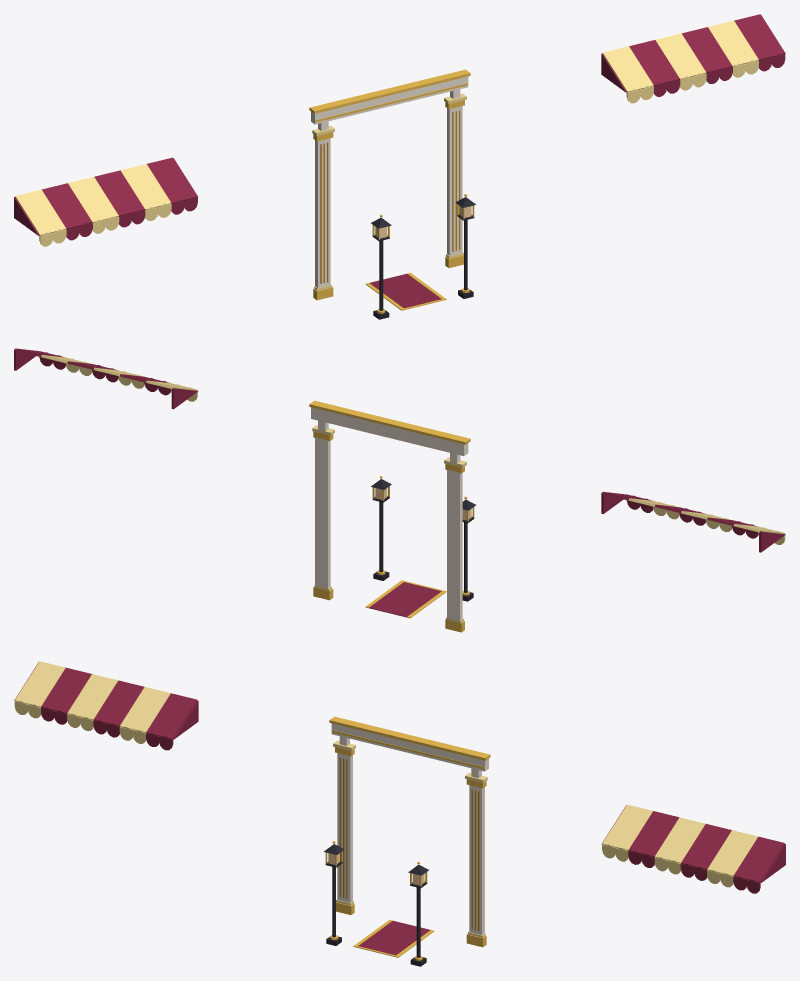
The model's file is CatCafe_Plot_ThemeGrand_56x43.glb.
3 renders of one model, top to bottom at view 1: azimuth 30°, elevation 25°; view 2: azimuth 150°, elevation 25°; view 3: azimuth 330°, elevation 25°, orthographic.
Parts seen in each view (by area): view 1: CatCafe_Plot_ThemeGrand_56x43_Awning, CatCafe_Plot_ThemeGrand_56x43; view 2: CatCafe_Plot_ThemeGrand_56x43, CatCafe_Plot_ThemeGrand_56x43_Awning; view 3: CatCafe_Plot_ThemeGrand_56x43_Awning, CatCafe_Plot_ThemeGrand_56x43.
Part boxes in pixels (x1,y1,x2,y2): CatCafe_Plot_ThemeGrand_56x43_Awning: (14,14,785,246); CatCafe_Plot_ThemeGrand_56x43: (309,69,476,319); CatCafe_Plot_ThemeGrand_56x43: (309,400,475,632); CatCafe_Plot_ThemeGrand_56x43_Awning: (14,348,785,552); CatCafe_Plot_ThemeGrand_56x43_Awning: (14,661,785,893); CatCafe_Plot_ThemeGrand_56x43: (323,716,490,966).
Size of the model in its own units: 52.15 by 12.75 by 4.86.
Materials: 1 (1 with a texture image).
